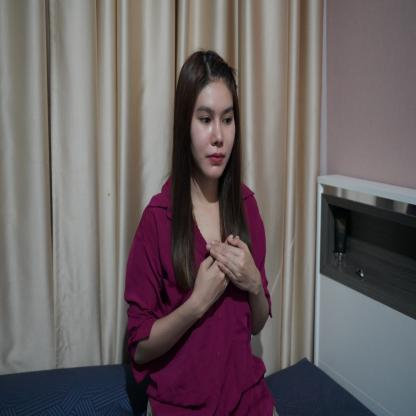Grieve: (179, 230, 270, 329)
